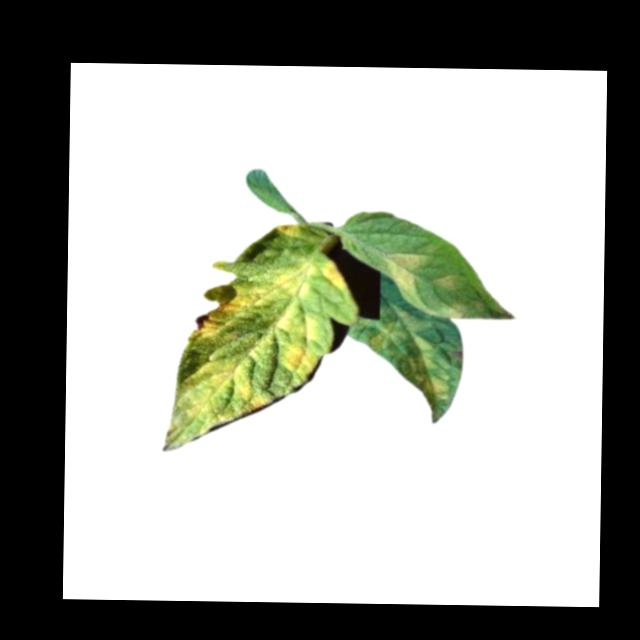Leaf_Mold: (160, 221, 350, 453), (366, 306, 455, 413), (381, 251, 425, 301), (431, 271, 462, 292)
